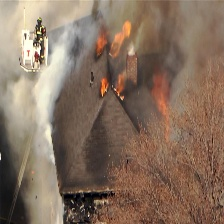fire: (94, 21, 130, 59), (155, 72, 172, 131), (99, 73, 127, 101)
smoke: (2, 38, 73, 215), (105, 1, 219, 86)
